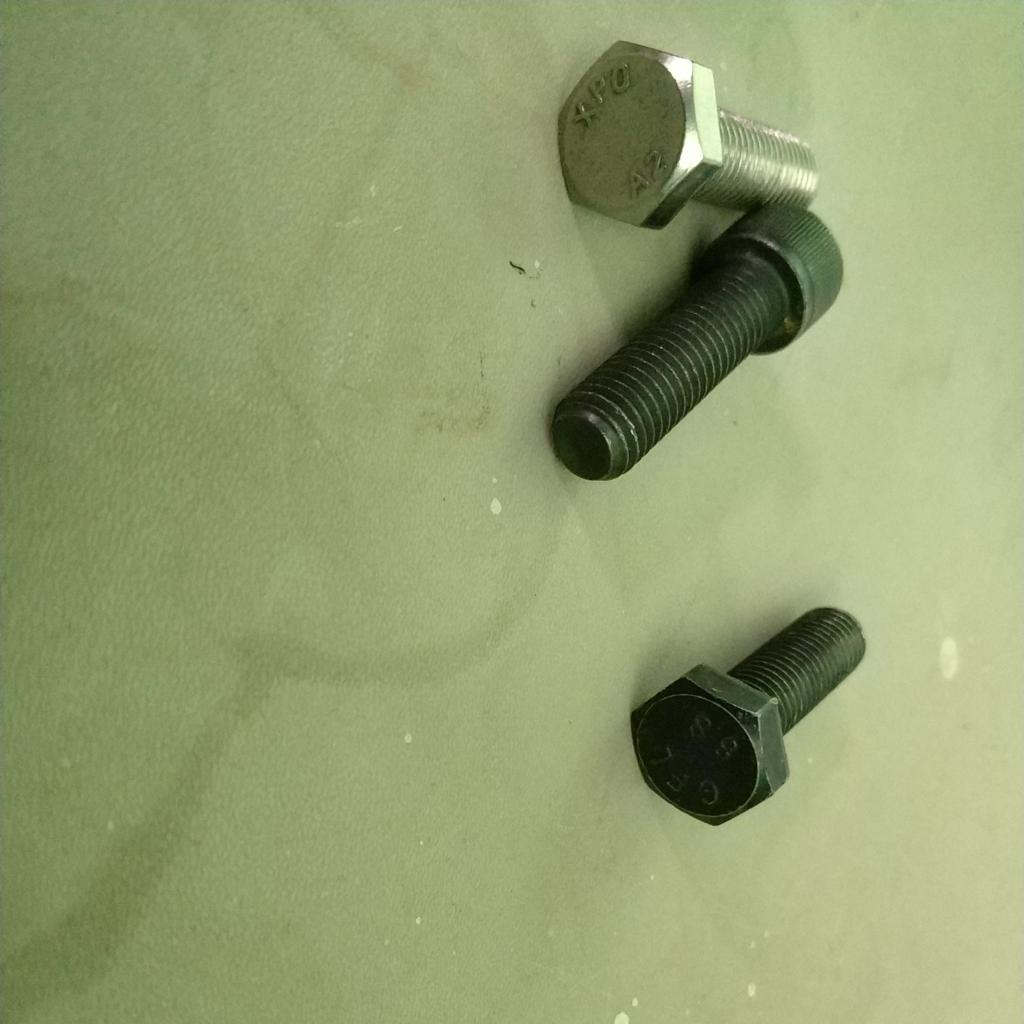screwtype1black: (693, 203, 851, 450)
screwtype2black: (629, 602, 868, 833)
screwtype2silver: (548, 31, 739, 234)
